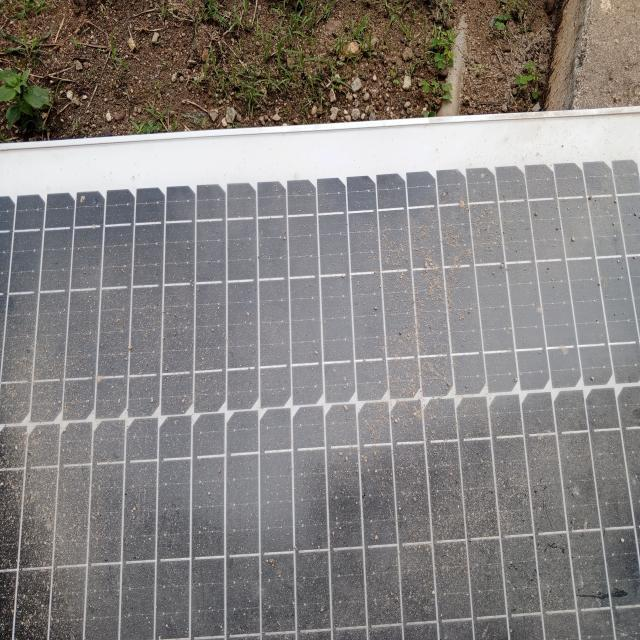Surface Contaminant: (15, 175, 639, 632)
